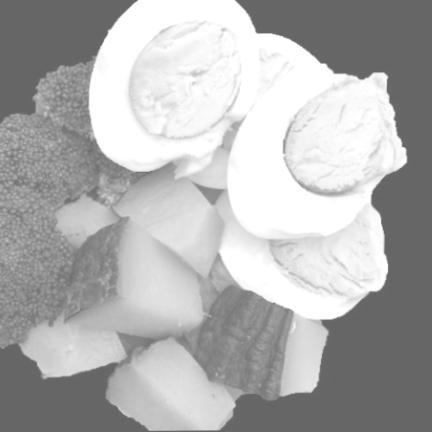broccoli: (0, 62, 135, 345)
egg: (90, 0, 408, 320)
